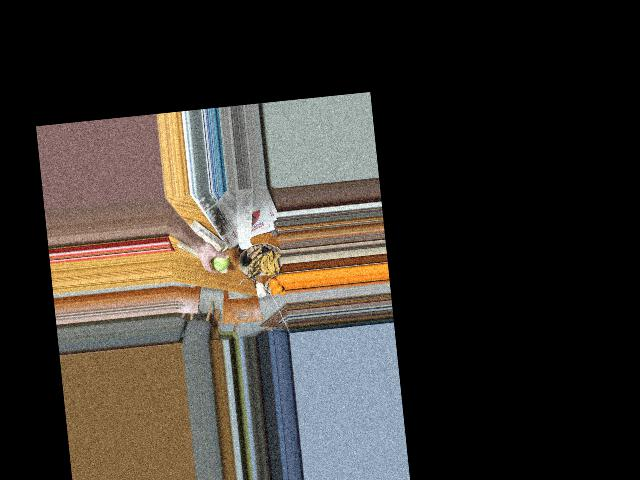apple: (206, 249, 232, 274)
